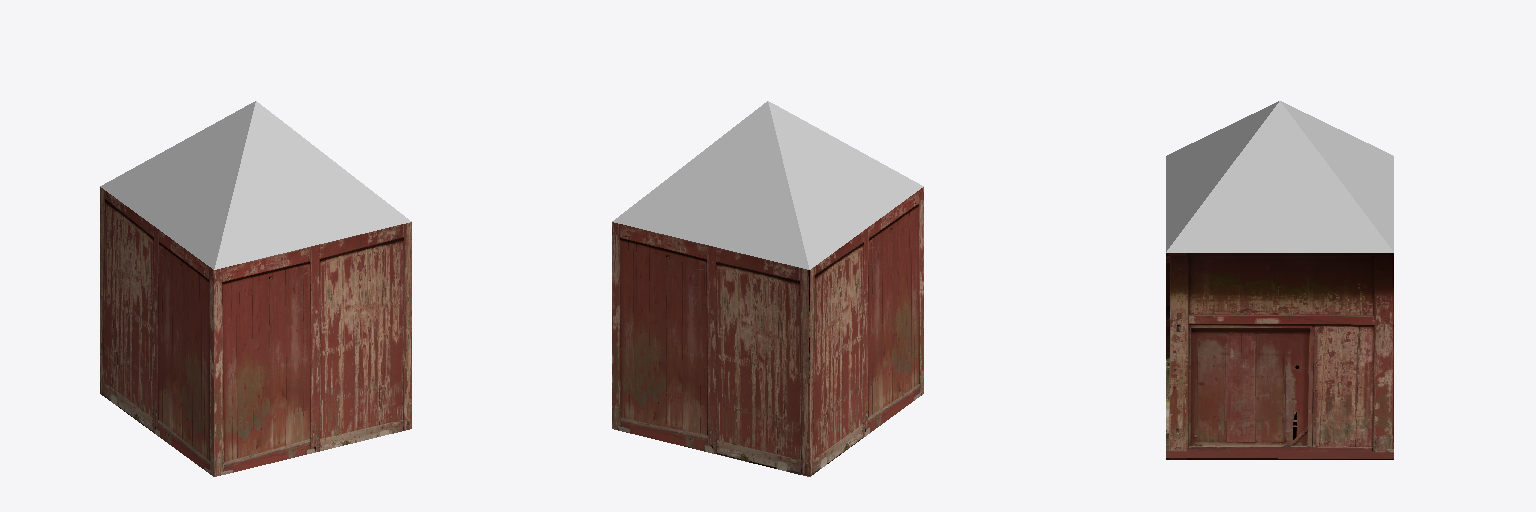
The picture shows the model from 3 angles: view 1: azimuth 30°, elevation 25°; view 2: azimuth 150°, elevation 25°; view 3: azimuth 270°, elevation 25°; orthographic projection.
Visible parts, largest first — view 1: Box001, Pyramid001; view 2: Box001, Pyramid001; view 3: Box001, Pyramid001.
Part boxes in pixels (bbox=[...]): Box001: bbox=[100, 187, 411, 476]; Pyramid001: bbox=[100, 101, 411, 269]; Box001: bbox=[612, 187, 923, 476]; Pyramid001: bbox=[612, 101, 923, 269]; Box001: bbox=[1166, 253, 1393, 459]; Pyramid001: bbox=[1166, 101, 1393, 252].
Size of the model in its own units: 50 by 75 by 50.
2 materials, 1 textured.